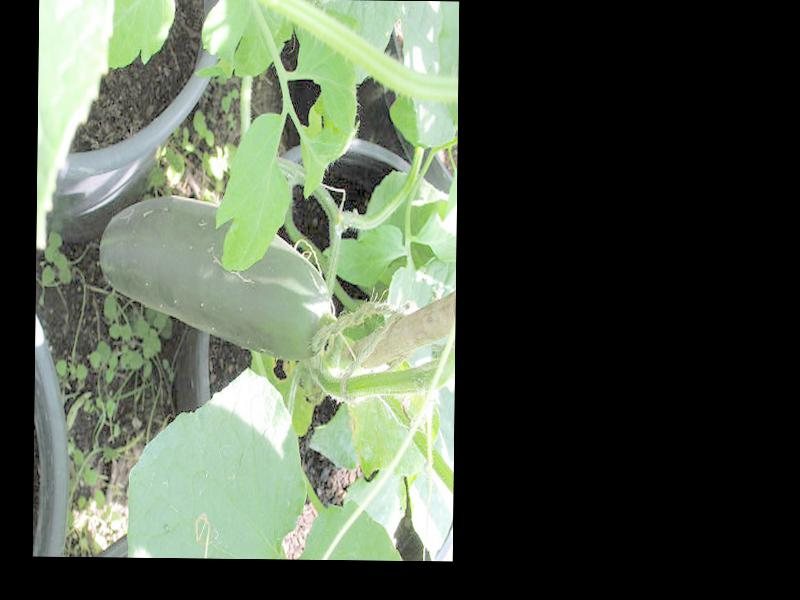Cucumber: (98, 196, 334, 361)
